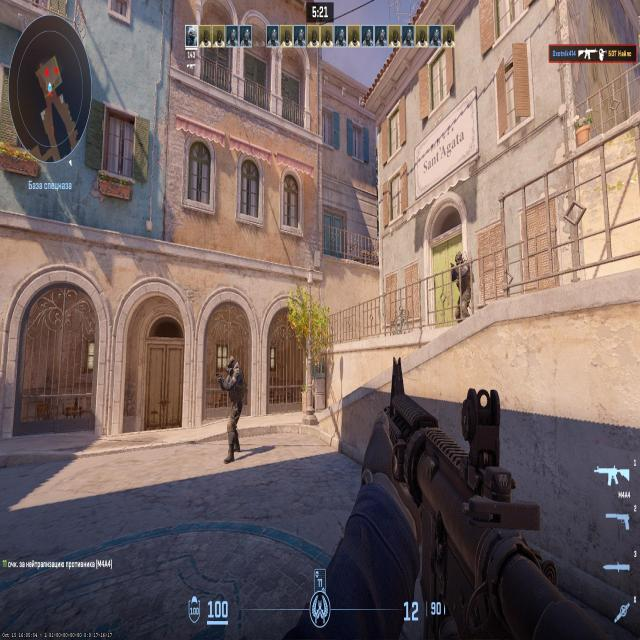CT: (454, 254, 471, 311), (230, 358, 240, 438)
CT_heat: (230, 362, 237, 373), (456, 256, 461, 266)
